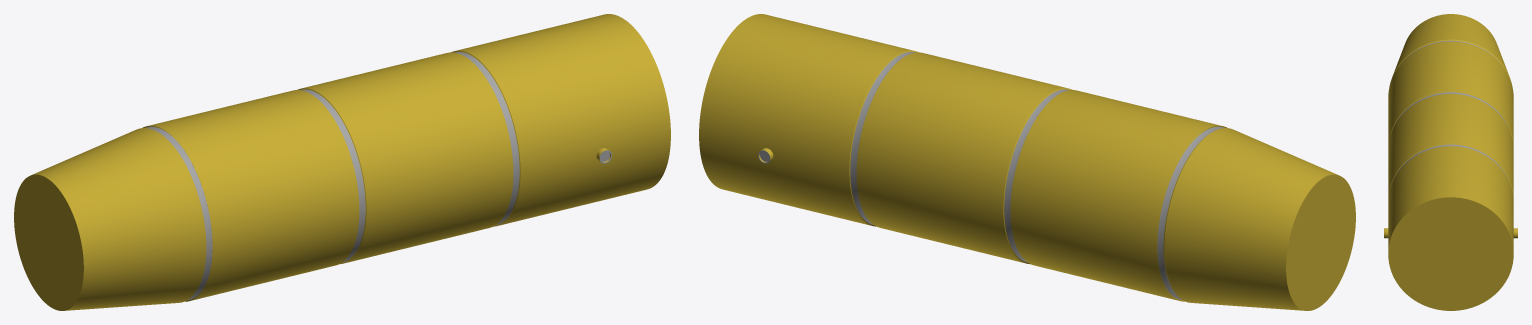
File: Castor_Behälter_gelb.fbx
3 views of the same model, side by side, from view 1: azimuth 30°, elevation 25°; view 2: azimuth 150°, elevation 25°; view 3: azimuth 270°, elevation 25° (orthographic). The views are drawn at different scales.
Parts seen in each view (by area): view 1: Cylinder; view 2: Cylinder; view 3: Cylinder.
Part boxes in pixels (bbox=[...]): Cylinder: bbox=[14, 14, 670, 310]; Cylinder: bbox=[699, 14, 1355, 310]; Cylinder: bbox=[1384, 14, 1517, 310].
Bounding box in the file's own units: 555 × 150 × 160.
